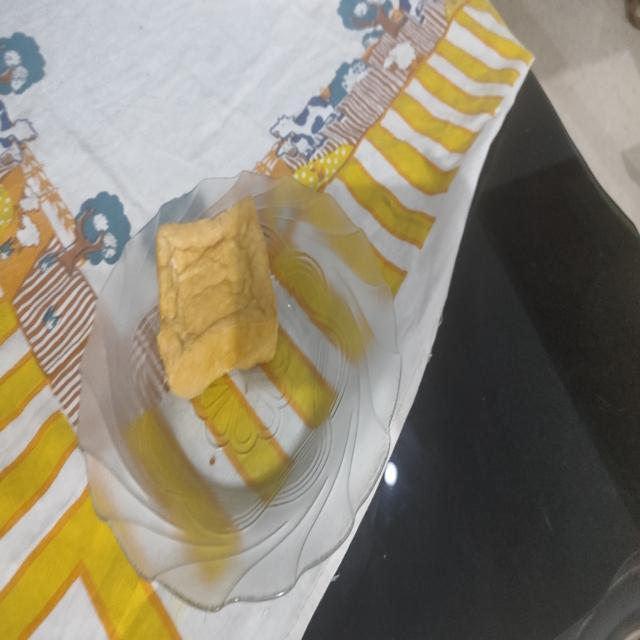tahu_goreng: (156, 196, 278, 399)
